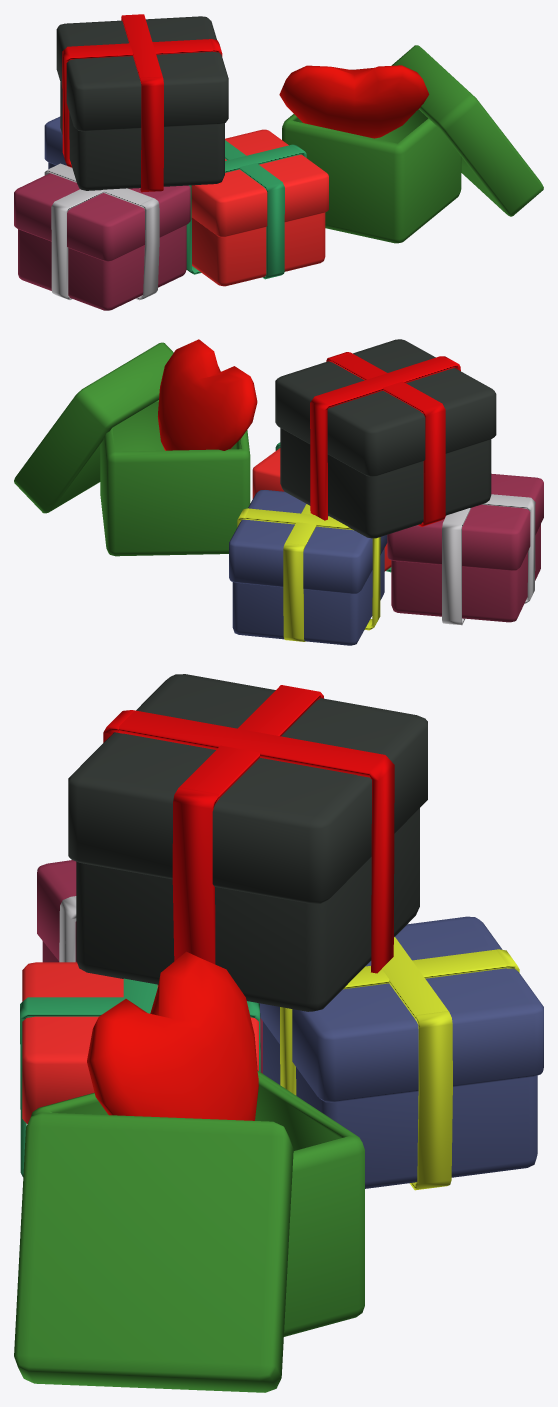
File: GiftBoxes.fbx
3 views of the same model, one above another, from view 1: azimuth 30°, elevation 25°; view 2: azimuth 150°, elevation 25°; view 3: azimuth 270°, elevation 25° (orthographic). The views are drawn at different scales.
Visible parts, largest first — view 1: Cube.016, Cube.013, Cube.017, Cube.009, Cube.018, Cube.012, Cube.001, Cube.008, Cube, Cube.014, Cube.015, Cube.003 (+4 smaller); view 2: Cube.016, Cube.013, Cube.012, Cube.017, Cube.005, Cube.018, Cube.009, Cube.004, Cube.008, Cube.015, Cube.014, Cube.007 (+4 smaller); view 3: Cube.017, Cube.013, Cube.012, Cube.005, Cube.018, Cube.016, Cube.004, Cube.015, Cube.014, Cube.001, Cube.006, Cube.007 (+4 smaller).
Part boxes in pixels (x1,y1,x2,y2): Cube.016: [282, 109, 461, 243]; Cube.013: [56, 16, 228, 131]; Cube.017: [391, 45, 543, 216]; Cube.009: [14, 165, 190, 261]; Cube.018: [279, 65, 429, 138]; Cube.012: [60, 82, 224, 190]; Cube.001: [191, 129, 328, 237]; Cube.008: [18, 225, 186, 310]; Cube: [191, 212, 325, 286]; Cube.014: [121, 14, 163, 192]; Cube.015: [62, 39, 222, 167]; Cube.003: [225, 140, 284, 279]; Cube.016: [100, 400, 250, 556]; Cube.013: [275, 339, 496, 476]; Cube.012: [280, 428, 491, 538]; Cube.017: [14, 342, 173, 513]; Cube.005: [229, 490, 387, 593]; Cube.018: [157, 339, 257, 450]; Cube.009: [387, 473, 543, 570]; Cube.004: [232, 548, 384, 645]; Cube.008: [391, 524, 540, 622]; Cube.015: [326, 352, 445, 526]; Cube.014: [310, 356, 460, 520]; Cube.007: [283, 504, 316, 641]; Cube.017: [14, 1112, 293, 1392]; Cube.013: [68, 674, 427, 903]; Cube.012: [76, 808, 419, 1011]; Cube.005: [259, 916, 543, 1102]; Cube.018: [87, 951, 258, 1120]; Cube.016: [31, 1070, 364, 1336]; Cube.004: [263, 1021, 537, 1188]; Cube.015: [172, 685, 323, 964]; Cube.014: [103, 710, 394, 973]; Cube.001: [22, 962, 258, 1123]; Cube.006: [382, 937, 452, 1190]; Cube.007: [280, 949, 519, 1095].
Size of the model in its own units: 450 by 186 by 237.
